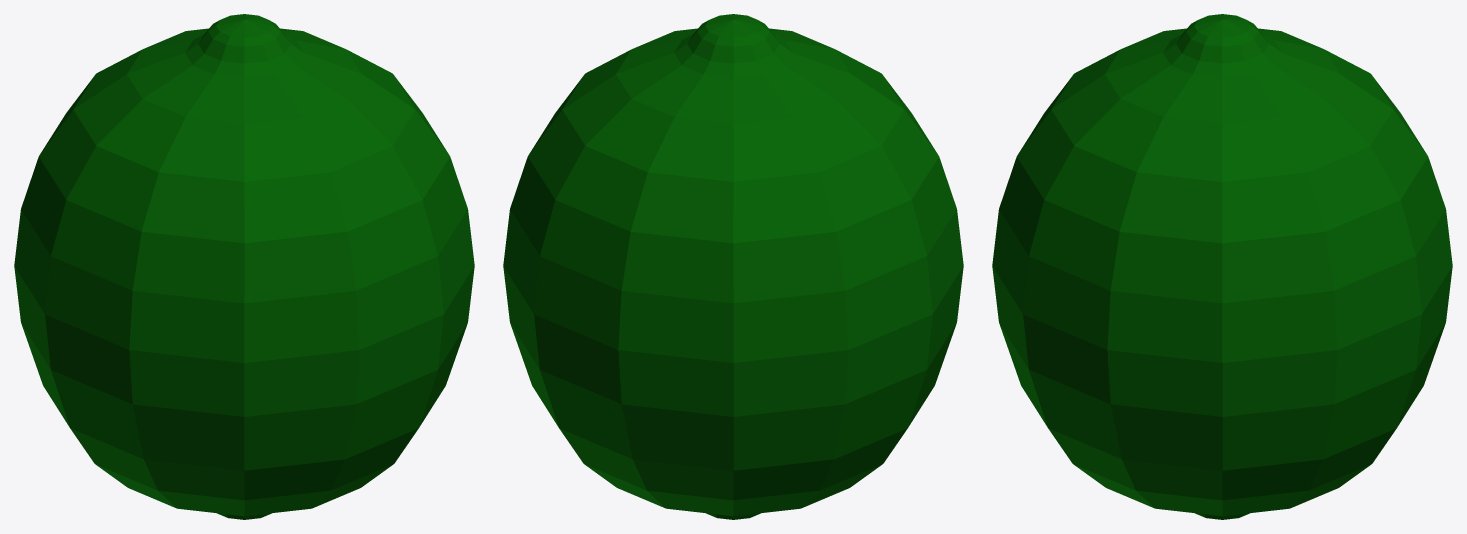
File: Lime.fbx
3 views of the same model, side by side, from view 1: azimuth 30°, elevation 25°; view 2: azimuth 150°, elevation 25°; view 3: azimuth 270°, elevation 25° (orthographic).
Parts seen in each view (by area): view 1: lime; view 2: lime; view 3: lime.
Boxes of the visible parts, bbox=[...] form: lime: bbox=[14, 14, 474, 519]; lime: bbox=[503, 14, 963, 519]; lime: bbox=[992, 14, 1452, 519].
Size of the model in its own units: 200 by 237 by 200.
